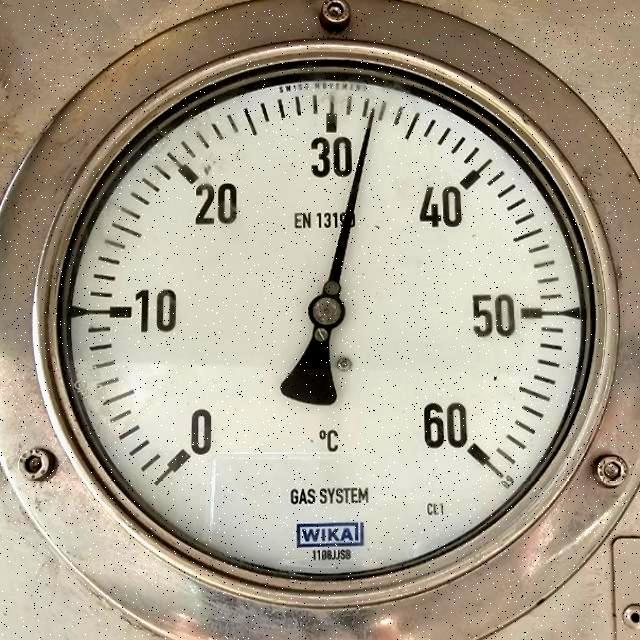Needle_Tip: (335, 88, 406, 156)
Needle_base: (294, 287, 356, 351)
max_value: (407, 396, 500, 455)
min_value: (170, 403, 218, 460)
